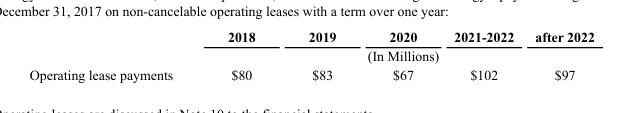table: (28, 28, 593, 81)
table column: (28, 28, 199, 81), (434, 28, 523, 81), (199, 28, 281, 81), (281, 28, 362, 81), (362, 28, 434, 81), (523, 28, 593, 81)
table column header: (28, 28, 593, 64)
table row: (28, 45, 593, 64), (28, 28, 593, 45), (28, 64, 593, 81)
table spanning cell: (199, 45, 593, 64)
